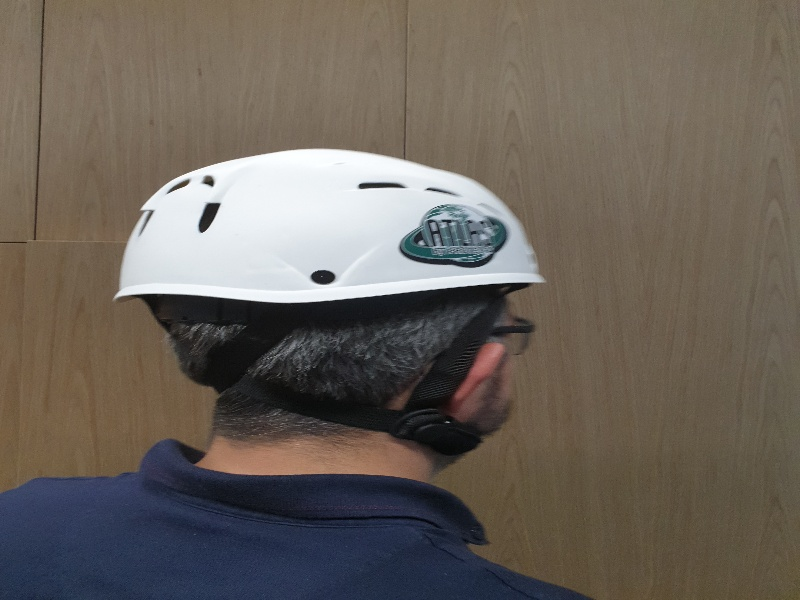Baret: (118, 151, 544, 296)
